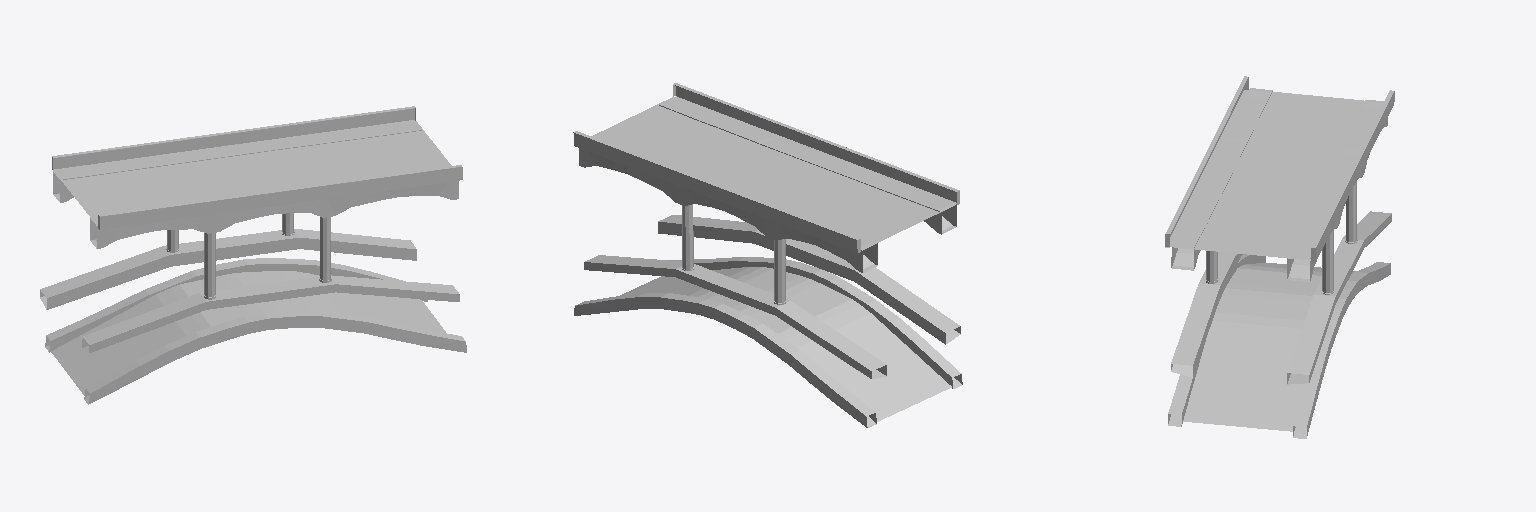
Rendered from venice_52.obj.
3 renders of one model, left to right at view 1: azimuth 30°, elevation 25°; view 2: azimuth 150°, elevation 25°; view 3: azimuth 270°, elevation 25°, orthographic.
Bounding box in the file's own units: 8.15 × 4.08 × 4.46.